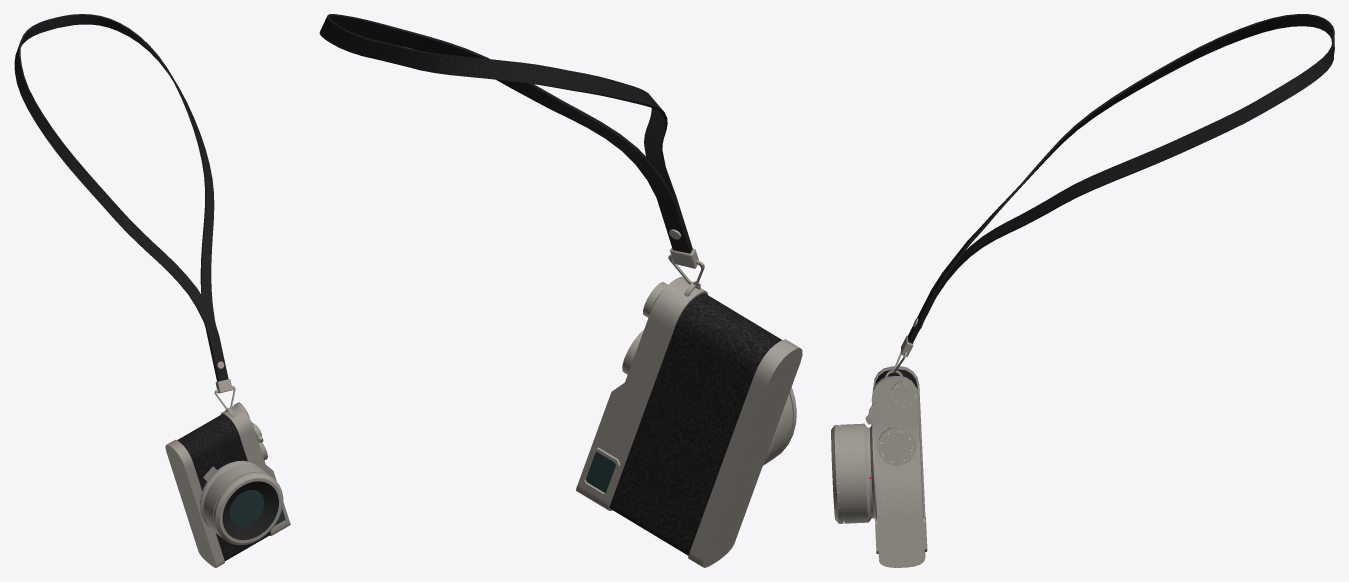
File: camera-white.glb
3 views of the same model, side by side, from view 1: azimuth 30°, elevation 25°; view 2: azimuth 150°, elevation 25°; view 3: azimuth 270°, elevation 25° (orthographic). The views are drawn at different scales.
Parts seen in each view (by area): view 1: Camera_body, CameraStrap; view 2: Camera_body, CameraStrap; view 3: Camera_body, CameraStrap.
Boxes of the visible parts, x1=… form: Camera_body: x1=165, y1=402, x2=290, y2=567; CameraStrap: x1=14, y1=14, x2=235, y2=410; Camera_body: x1=576, y1=276, x2=802, y2=567; CameraStrap: x1=319, y1=14, x2=704, y2=286; Camera_body: x1=831, y1=366, x2=927, y2=567; CameraStrap: x1=893, y1=14, x2=1334, y2=373.
Size of the model in its own units: 0.1255 by 0.3488 by 0.3011.
Materials: 3 (2 with a texture image).
